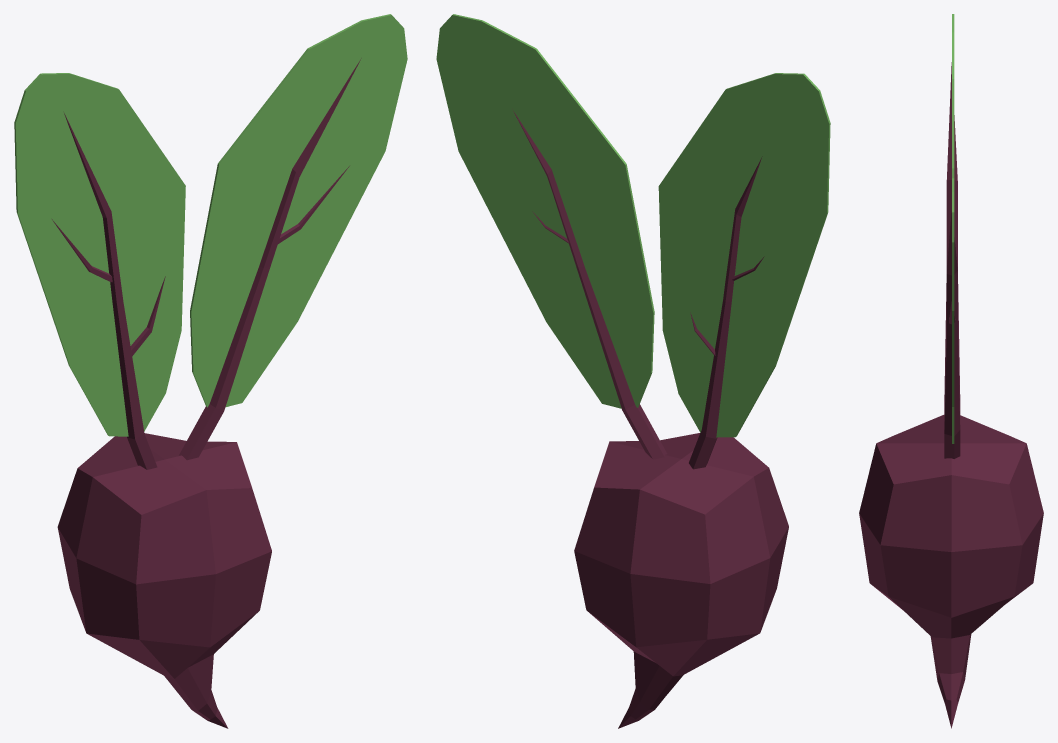
The model's file is Beet_3-optimized.glb.
3 views of the same model, side by side, from view 1: azimuth 30°, elevation 25°; view 2: azimuth 150°, elevation 25°; view 3: azimuth 270°, elevation 25° (orthographic). The views are drawn at different scales.
Visible parts, largest first — view 1: Beet_3; view 2: Beet_3; view 3: Beet_3.
Part boxes in pixels (x1,y1,x2,y2): Beet_3: (14, 14, 407, 728); Beet_3: (436, 14, 830, 728); Beet_3: (859, 14, 1043, 728).
Bounding box in the file's own units: 0.5093 × 0.8688 × 0.23.
